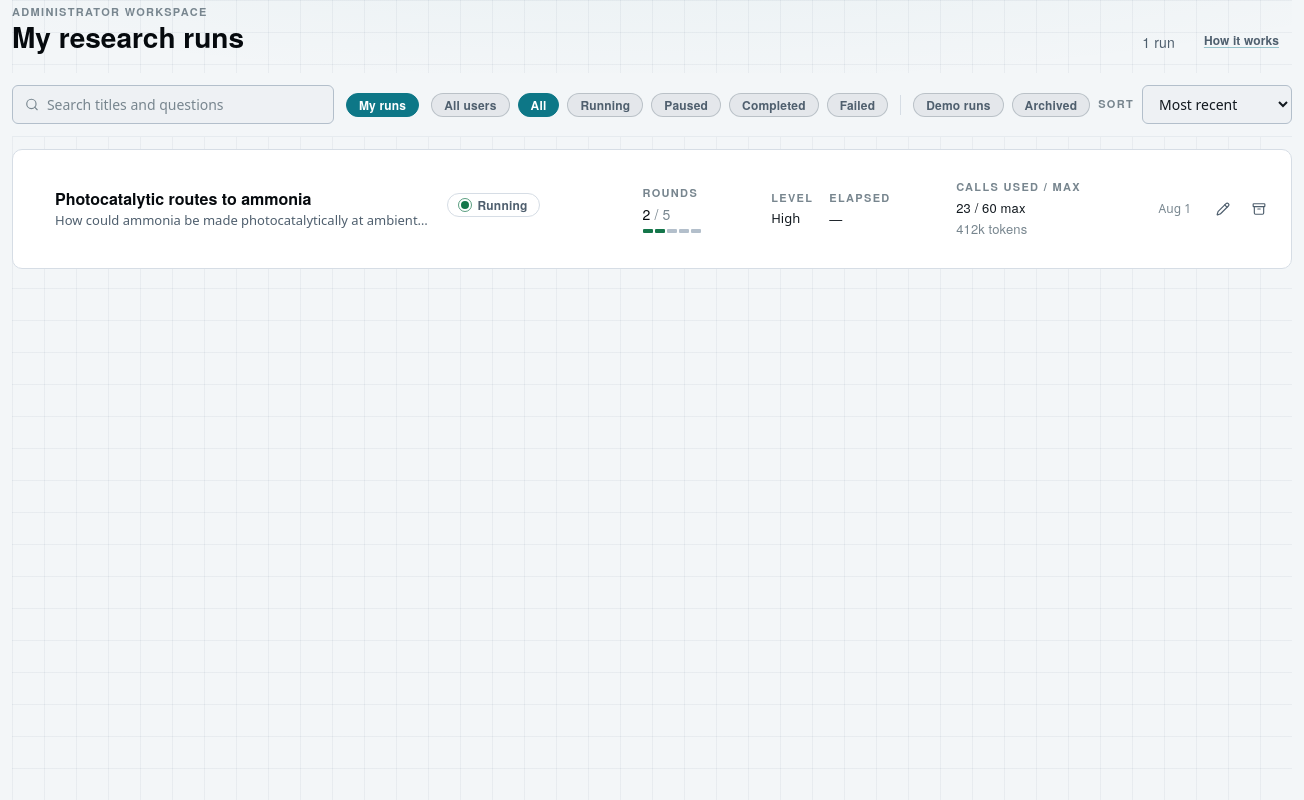
Test: runs list › defaults administrators to their own runs and requires a deliberate all-users view
Expected: the link "Photocatalytic routes to ammonia" is shown, [55,188,312,209]
Expected: the text "Owner" is not shown
Click the button "All users": (470, 105) [431,93,510,117]
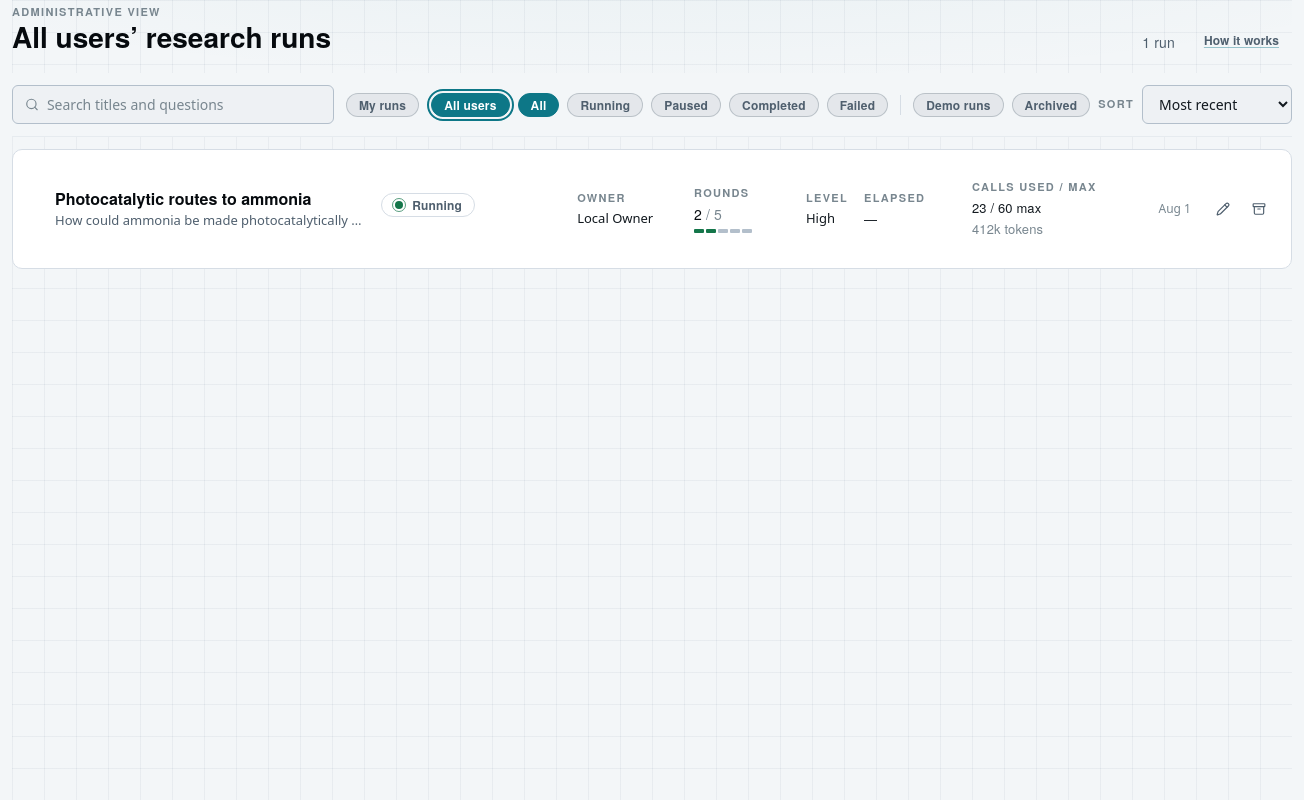
Now the text "Owner" is shown, box [577,190,626,205]
